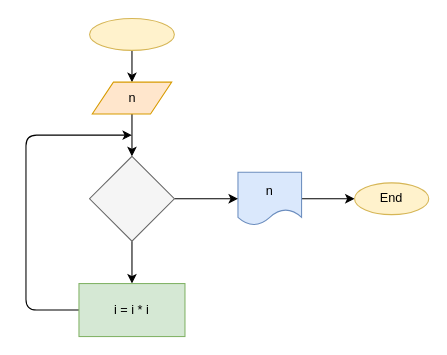
Some shapes in this 447 by 355 pixel diagram are drawn without their labels. Here are the shapes that lost their labels. From the top down, the box of each, then its label:
(89, 17, 174, 50): Start
(89, 155, 174, 241): i < n
